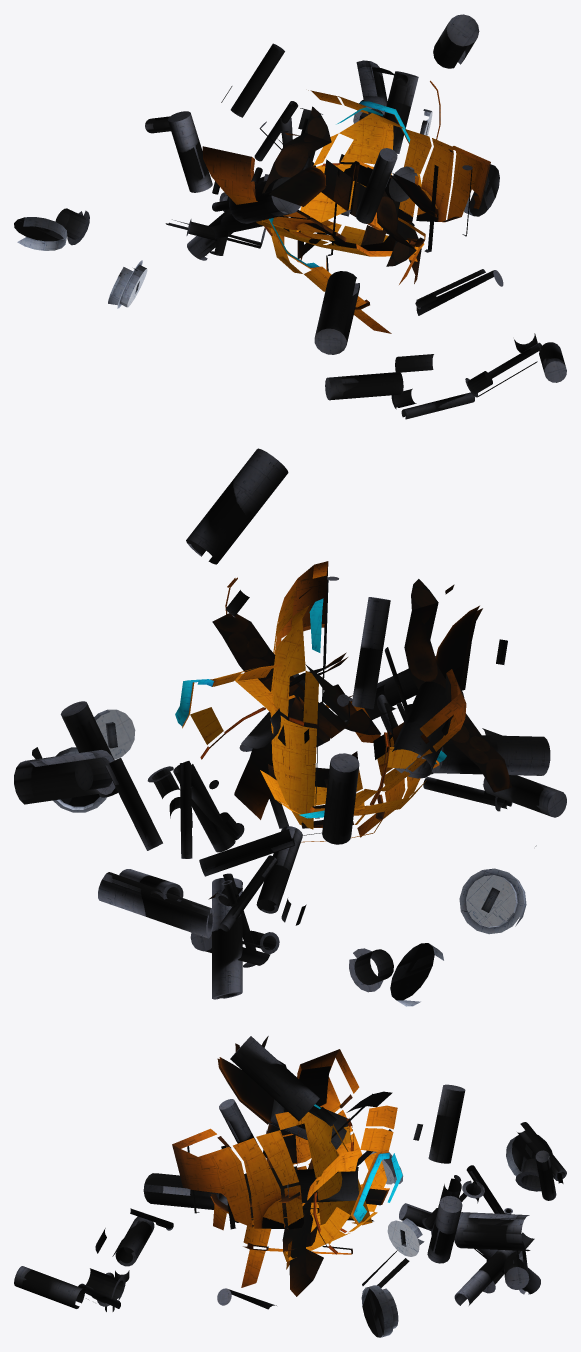
File: MonsterA_die20.obj
3 renders of one model, top to bottom at view 1: azimuth 30°, elevation 25°; view 2: azimuth 150°, elevation 25°; view 3: azimuth 270°, elevation 25°, orthographic. The views are drawn at different scales.
Visible parts, largest first — view 1: Box001; view 2: Box001; view 3: Box001.
Boxes of the visible parts, x1,y1,x2,y2 form: Box001: (14, 14, 566, 419); Box001: (14, 448, 566, 1006); Box001: (14, 1036, 566, 1337).
Bounding box in the file's own units: 459 × 351 × 571.
Materials: 1 (1 with a texture image).
